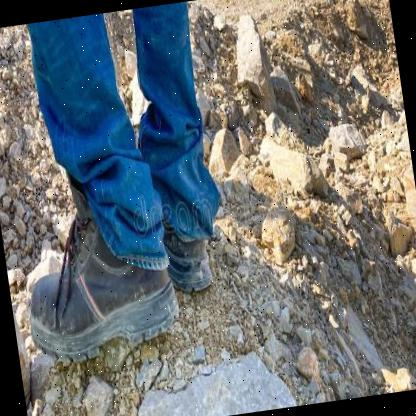bota: (0, 166, 192, 367), (158, 192, 233, 317)
